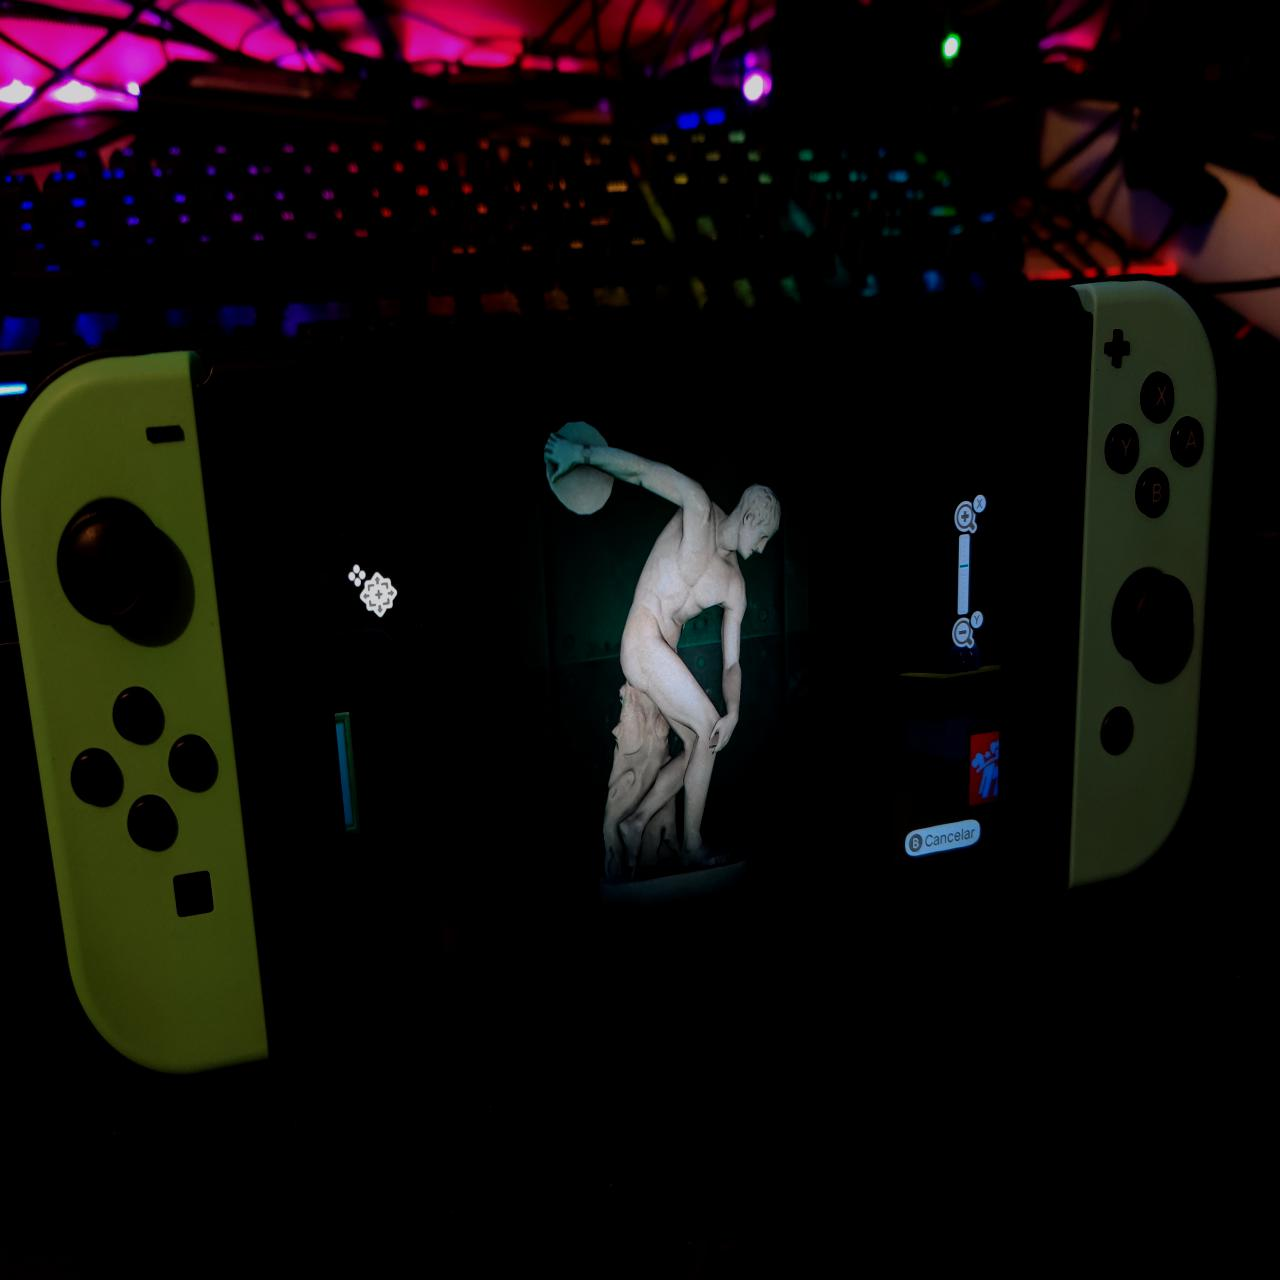DiskobolosFake: (542, 418, 787, 888)
